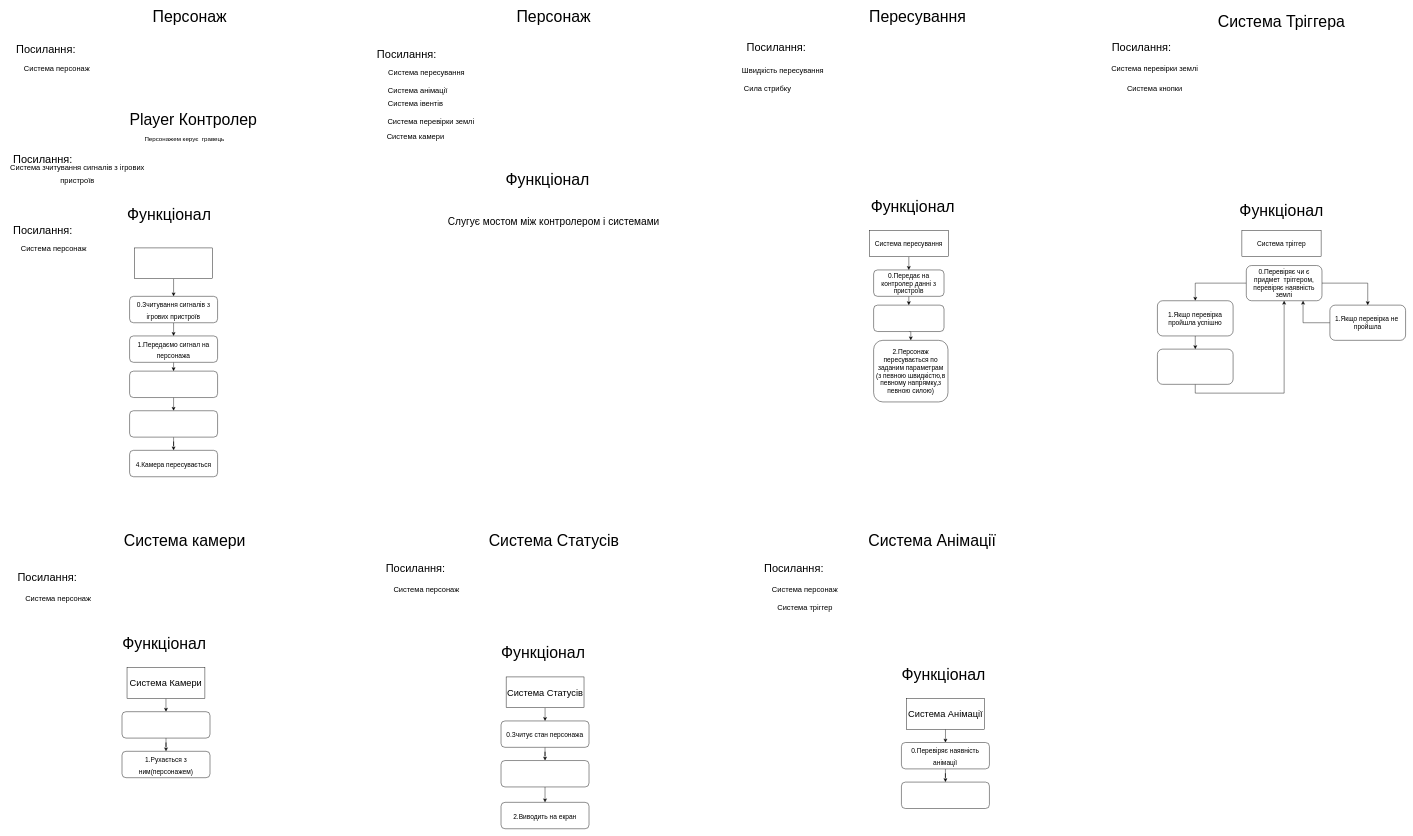
Image size: 1413x836. Some labels were removed from this diagram. The shapes that lost their labels are listed below. From the top down, each one's box as (x1, y1, x2, y2) in pixels, then its label:
(134, 248, 213, 279): Функція(Апдейт)
(873, 305, 944, 332): 1.Контролер зчитує і переносить данні
(129, 371, 218, 398): 2.Персонаж передаю сигнал на систему руху
(1157, 349, 1233, 384): 2.То виконує певні дії (стрибає,збирає предмети тощо.)
(129, 410, 218, 437): 3.Персонаж рухається
(122, 711, 210, 738): 0.Зчитує рух персонажа
(501, 760, 589, 787): 1.Змінює кількість зібраних предметів,значення ХП і тд.
(901, 782, 989, 808): 1. Поргає анімацію при попаданні в тріггерну зону
